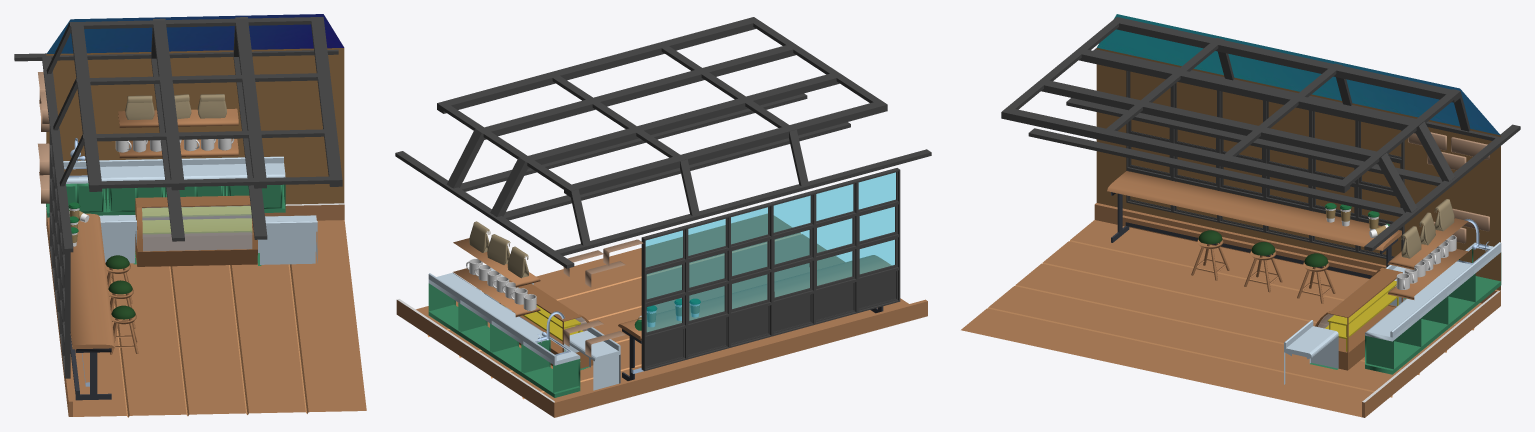
Rendered from coffeeshop.glb.
3 renders of one model, left to right at view 1: azimuth 30°, elevation 25°; view 2: azimuth 150°, elevation 25°; view 3: azimuth 270°, elevation 25°, orthographic. The views are drawn at different scales.
Visible parts, largest first — view 1: Scene; view 2: Scene; view 3: Scene.
Boxes of the visible parts, box(x1,y1,x2,y2) form: Scene: box(14, 14, 366, 417); Scene: box(395, 17, 931, 417); Scene: box(961, 14, 1520, 417).
Size of the model in its own units: 22.32 by 11.42 by 26.19.
Materials: 20 (1 with a texture image).
